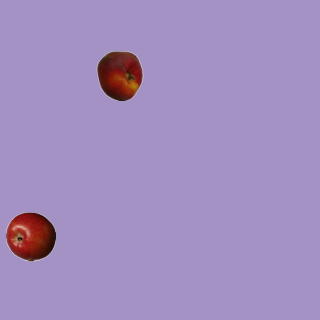Apple Braeburn: (5, 211, 55, 261)
Nectarine Flat: (94, 50, 144, 100)
